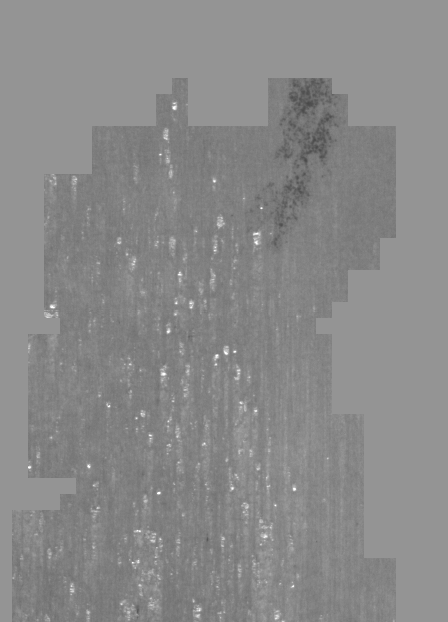oxl: (35, 10, 413, 612)
